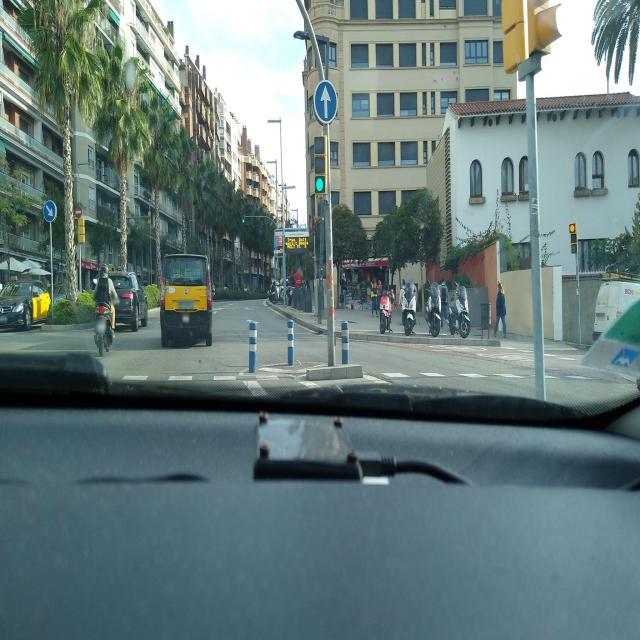bike: (92, 290, 117, 357), (444, 282, 470, 338), (399, 280, 420, 336), (426, 281, 443, 338), (377, 284, 394, 334), (270, 278, 292, 306)
car: (160, 252, 213, 347), (0, 280, 51, 331), (107, 270, 149, 331)
